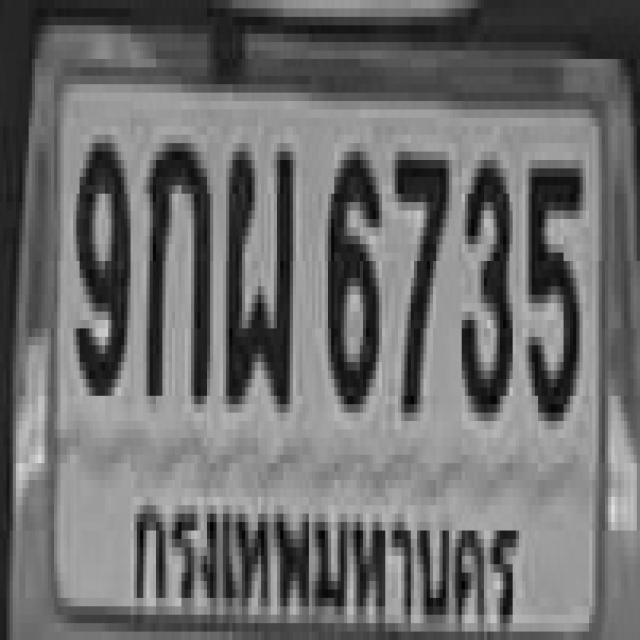10GorGai: (143, 135, 207, 396)
3: (458, 152, 509, 412)
37PhorPhueng: (224, 139, 292, 400)
5: (526, 160, 580, 413)
6: (324, 143, 376, 404)
7: (392, 139, 446, 408)
9: (74, 135, 128, 387)
Bangkok: (122, 462, 522, 640)
